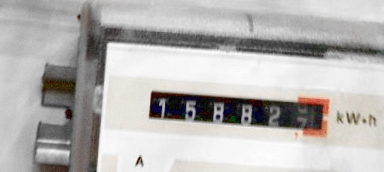1: (154, 95, 170, 118)
2: (265, 103, 282, 128)
5: (182, 97, 198, 123)
7: (295, 112, 308, 130)
8: (238, 102, 253, 127), (210, 100, 224, 124)
screen: (138, 80, 338, 146)
